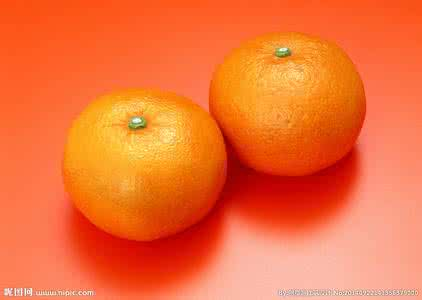orange: (65, 85, 225, 230), (205, 26, 368, 164)
pineapple: (66, 86, 226, 237)
